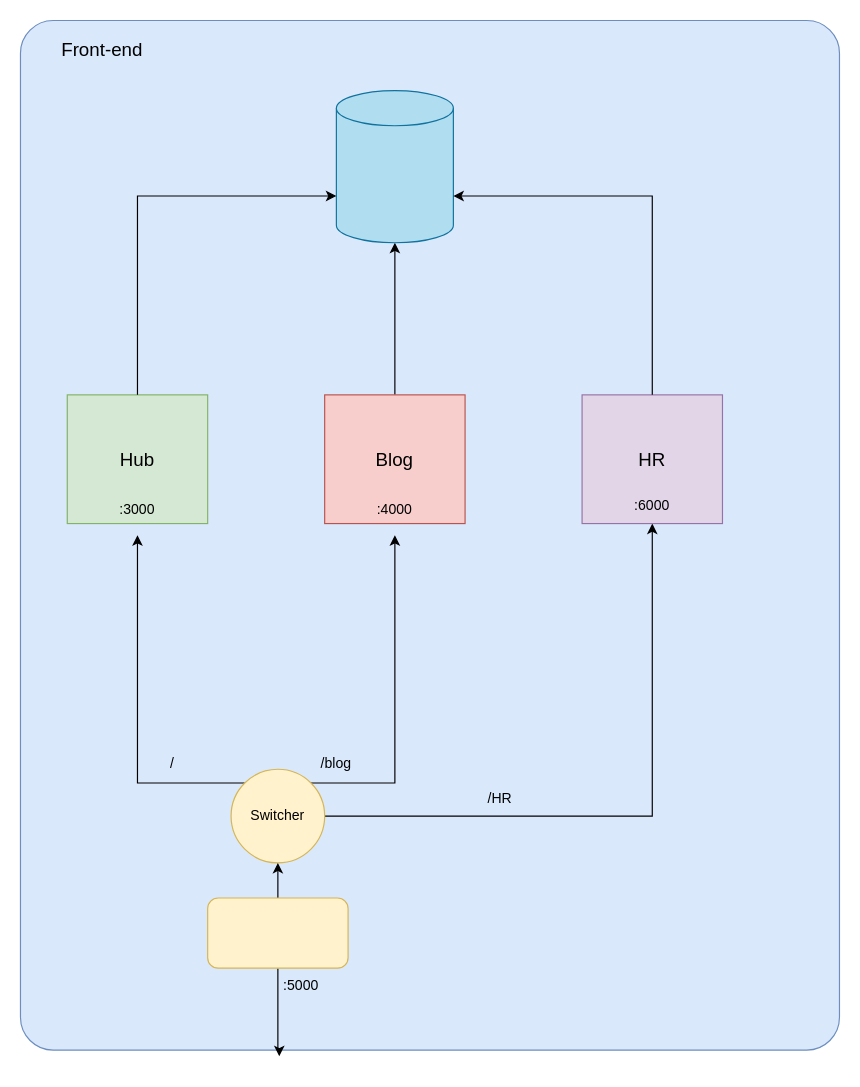
The diagram is 860 pixels wide and 1087 high, and some of its shapes have lost their labels. The centre of each missing label's shape, as x and y in pixels:
"Proxy" goes at [277,932].
"Shared Module" goes at [394,166].
